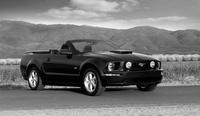car: (20, 40, 166, 99)
